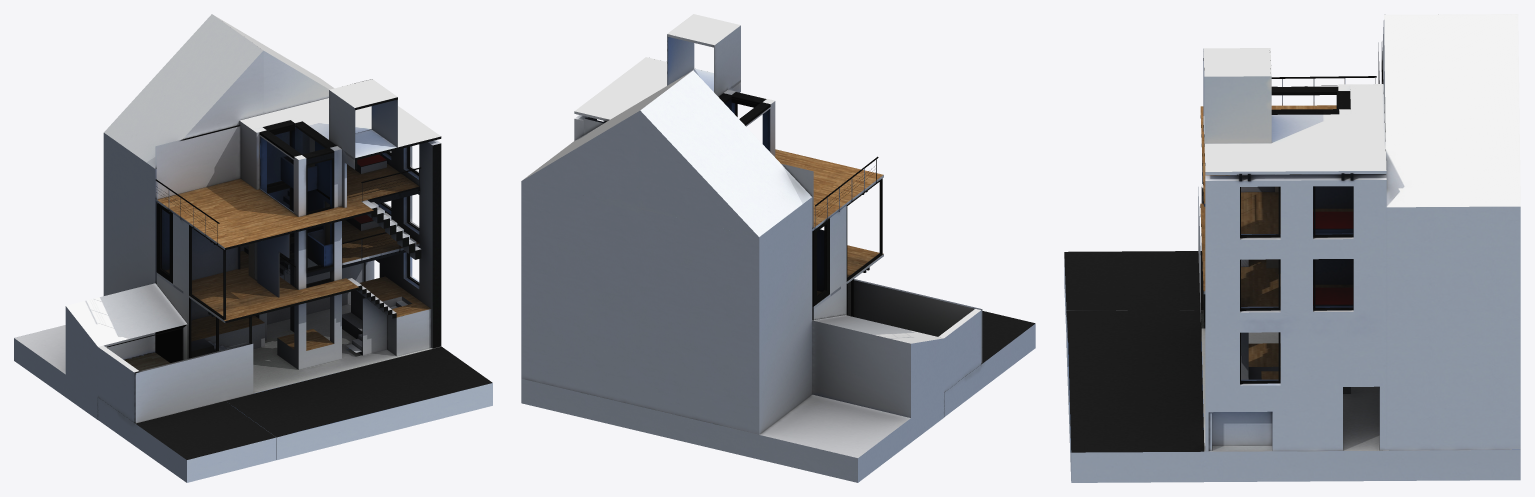
Rendered from vianney_house_2.glb.
The picture shows the model from 3 angles, left to right: view 1: azimuth 30°, elevation 25°; view 2: azimuth 150°, elevation 25°; view 3: azimuth 270°, elevation 25°; orthographic projection. The views are drawn at different scales.
Visible parts, largest first — view 1: Object003_Object003_mtl_0, Object002_Object002_mtl_0, Object001_Object001_mtl_0, Object004_Object004_mtl_0; view 2: Object004_Object004_mtl_0, Object003_Object003_mtl_0, Object002_Object002_mtl_0, Object001_Object001_mtl_0; view 3: Object004_Object004_mtl_0, Object001_Object001_mtl_0, Object002_Object002_mtl_0, Object003_Object003_mtl_0.
Part boxes in pixels (x1,y1,x2,y2): Object003_Object003_mtl_0: (65, 14, 492, 482); Object002_Object002_mtl_0: (14, 97, 492, 459); Object001_Object001_mtl_0: (155, 79, 440, 355); Object004_Object004_mtl_0: (103, 15, 431, 357); Object004_Object004_mtl_0: (521, 71, 883, 434); Object003_Object003_mtl_0: (521, 70, 1035, 482); Object002_Object002_mtl_0: (605, 92, 1035, 482); Object001_Object001_mtl_0: (574, 14, 883, 309); Object004_Object004_mtl_0: (1202, 14, 1520, 450); Object001_Object001_mtl_0: (1203, 48, 1386, 451); Object002_Object002_mtl_0: (1064, 58, 1519, 452); Object003_Object003_mtl_0: (1064, 20, 1520, 482).
Size of what is drawn, in the model's own units: 2 by 1.81 by 1.9.
Materials: 4 (4 with a texture image).
